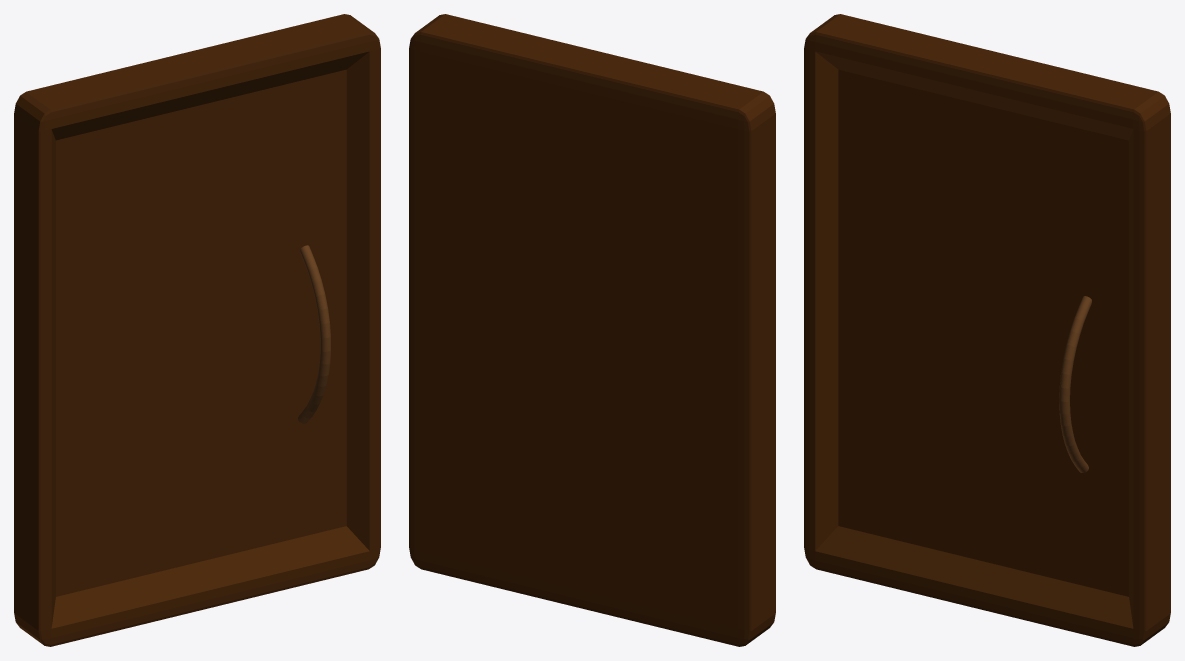
File: Дверь.fbx
3 views of the same model, side by side, from view 1: azimuth 30°, elevation 25°; view 2: azimuth 150°, elevation 25°; view 3: azimuth 330°, elevation 25° (orthographic).
Parts seen in each view (by area): view 1: Цилиндр.001; view 2: Цилиндр.001; view 3: Цилиндр.001.
Part boxes in pixels (left/top/right/bottom): Цилиндр.001: left=14, top=14, right=380, bottom=646; Цилиндр.001: left=409, top=14, right=775, bottom=646; Цилиндр.001: left=804, top=14, right=1170, bottom=646.
Bounding box in the file's own units: 311 × 466 × 65.23.
